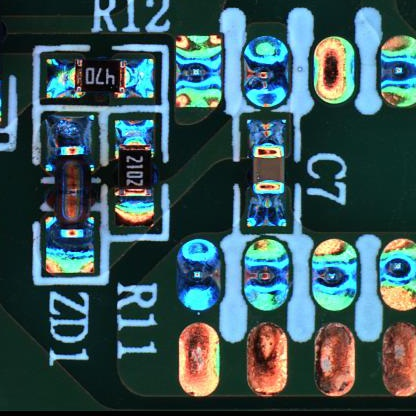spot: (302, 230, 364, 319), (238, 231, 300, 314), (171, 232, 228, 314), (238, 31, 294, 114), (306, 35, 367, 109), (173, 31, 227, 114)
